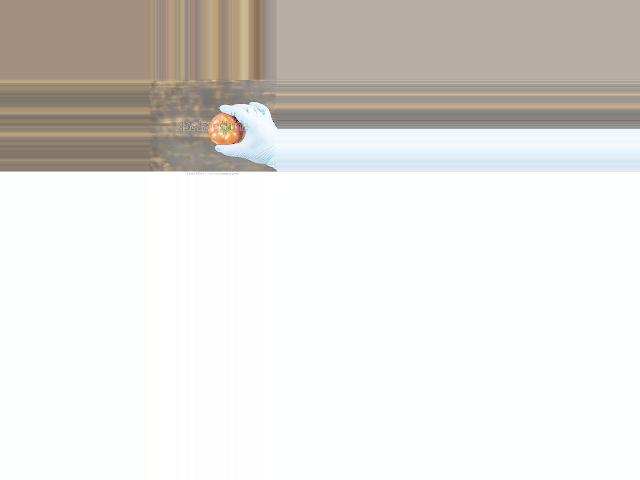tomato: (207, 113, 243, 145)
